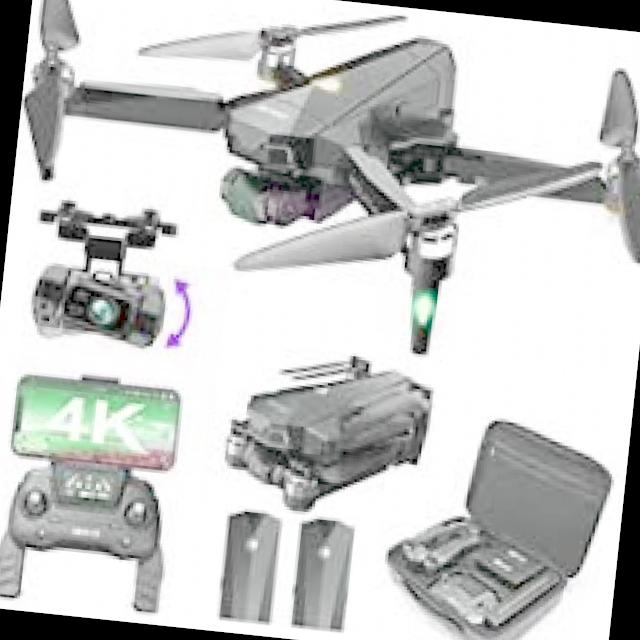drone: (0, 0, 640, 389)
